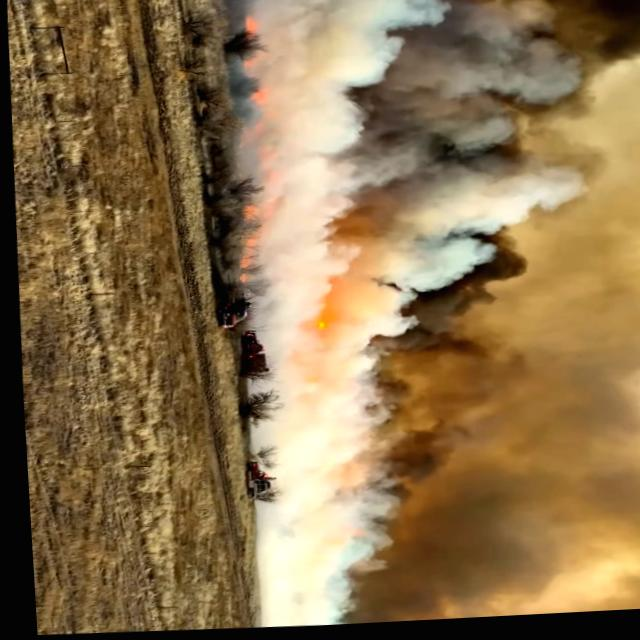smoke: (330, 0, 640, 290), (237, 412, 381, 631)
